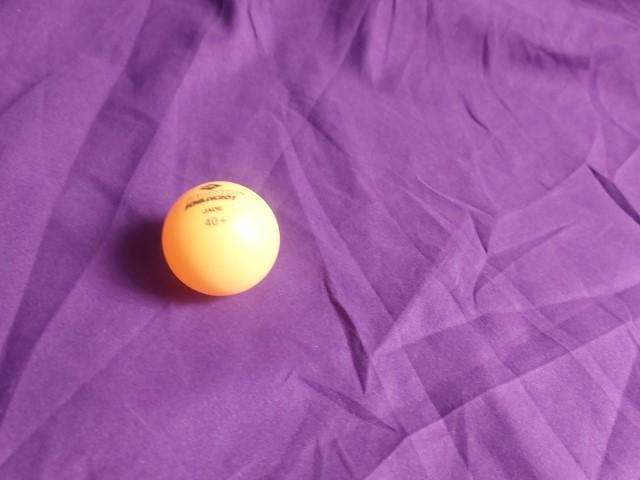oball: (159, 176, 283, 303)
